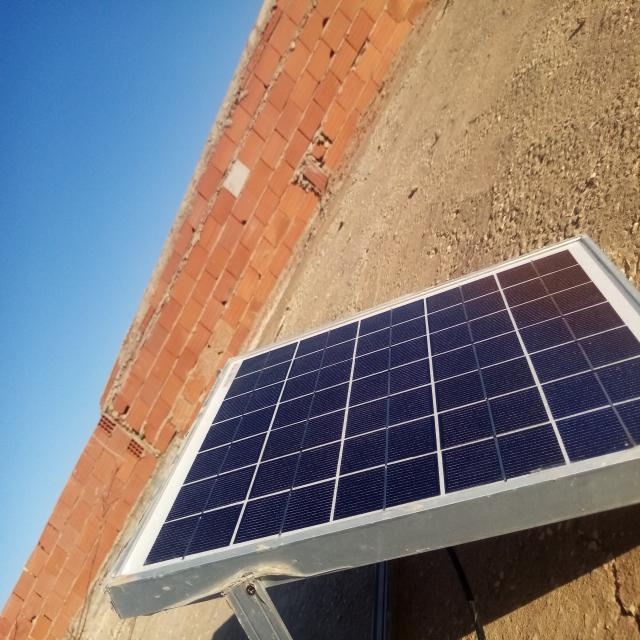Normal Solar Panel: (108, 234, 640, 585)
